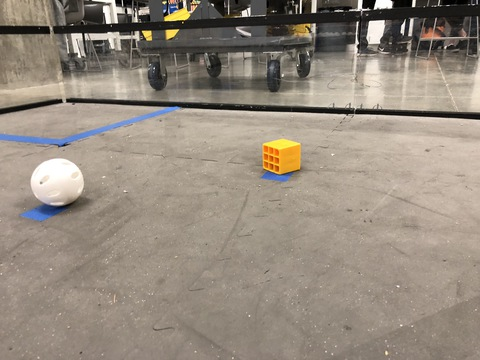ball: (21, 154, 96, 219)
block: (254, 138, 309, 180)
